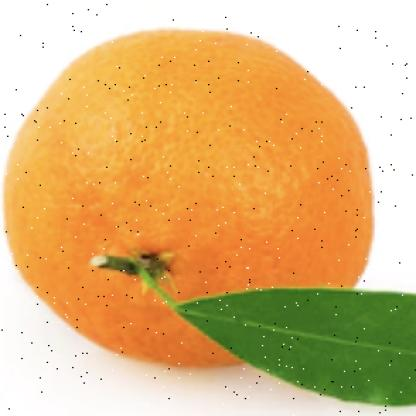fresh: (4, 29, 373, 374)
